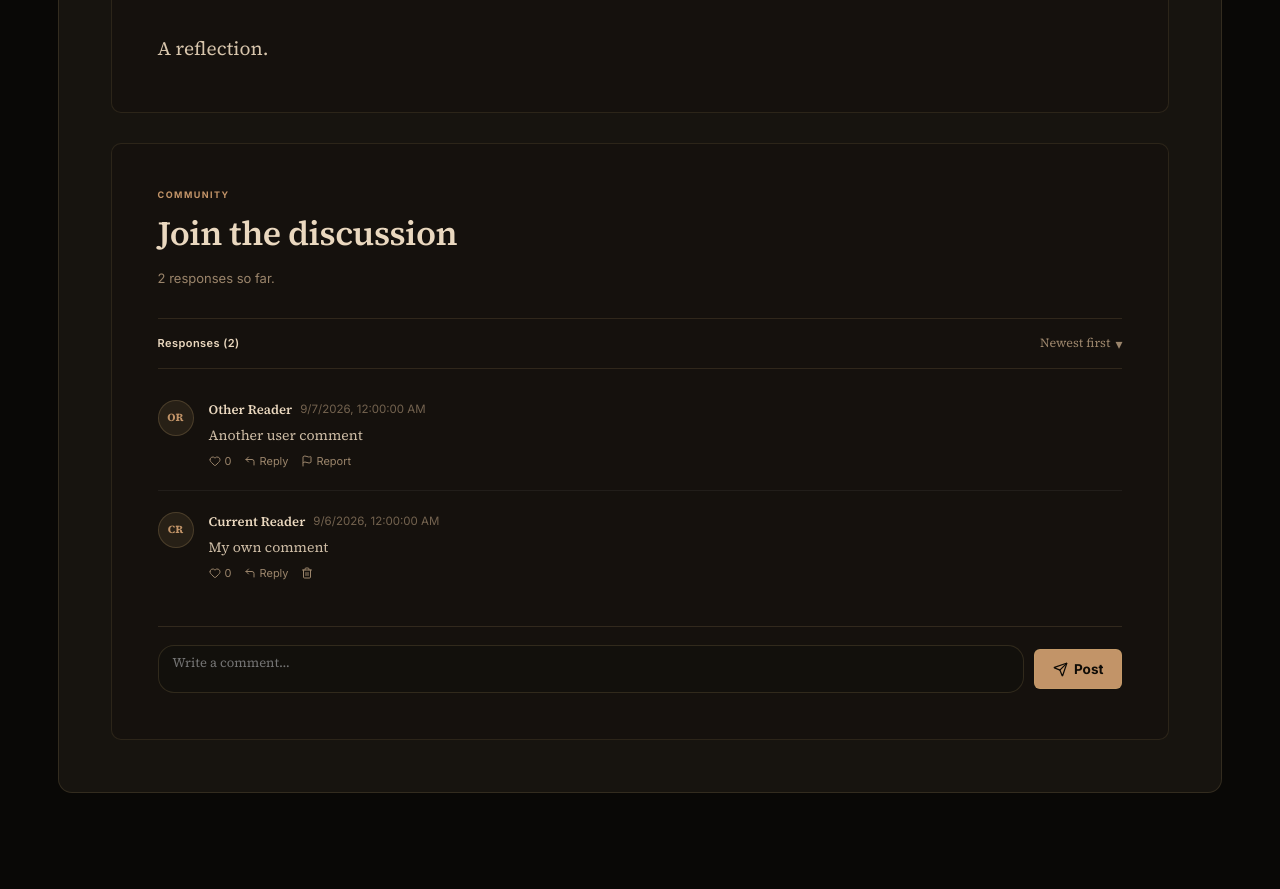
CardOverlayModal comment permissions › shows delete only for the current user and hides another comment after reporting it
This screenshot has width=1280, height=889.
(page scrolled)
Check: the text "My own comment" is shown, box [209, 537, 328, 557]
Check: the text "Another user comment" is shown, box [209, 425, 363, 445]
Click the button with aria-label "Report comment". click: (326, 461)
box: [300, 453, 351, 469]
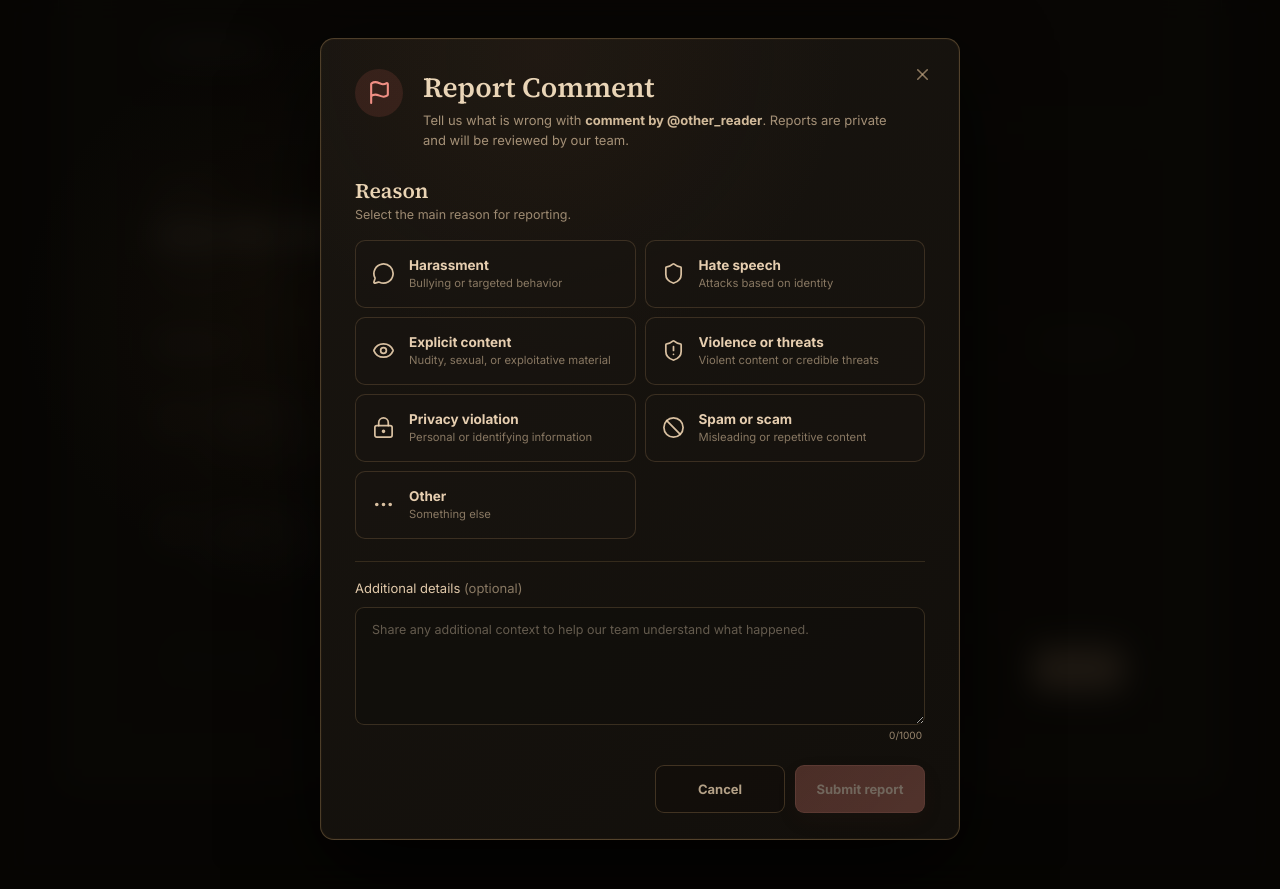
Click the radio button with aria-label "Harassment or bullying". click: (495, 274)
box: [355, 240, 636, 308]
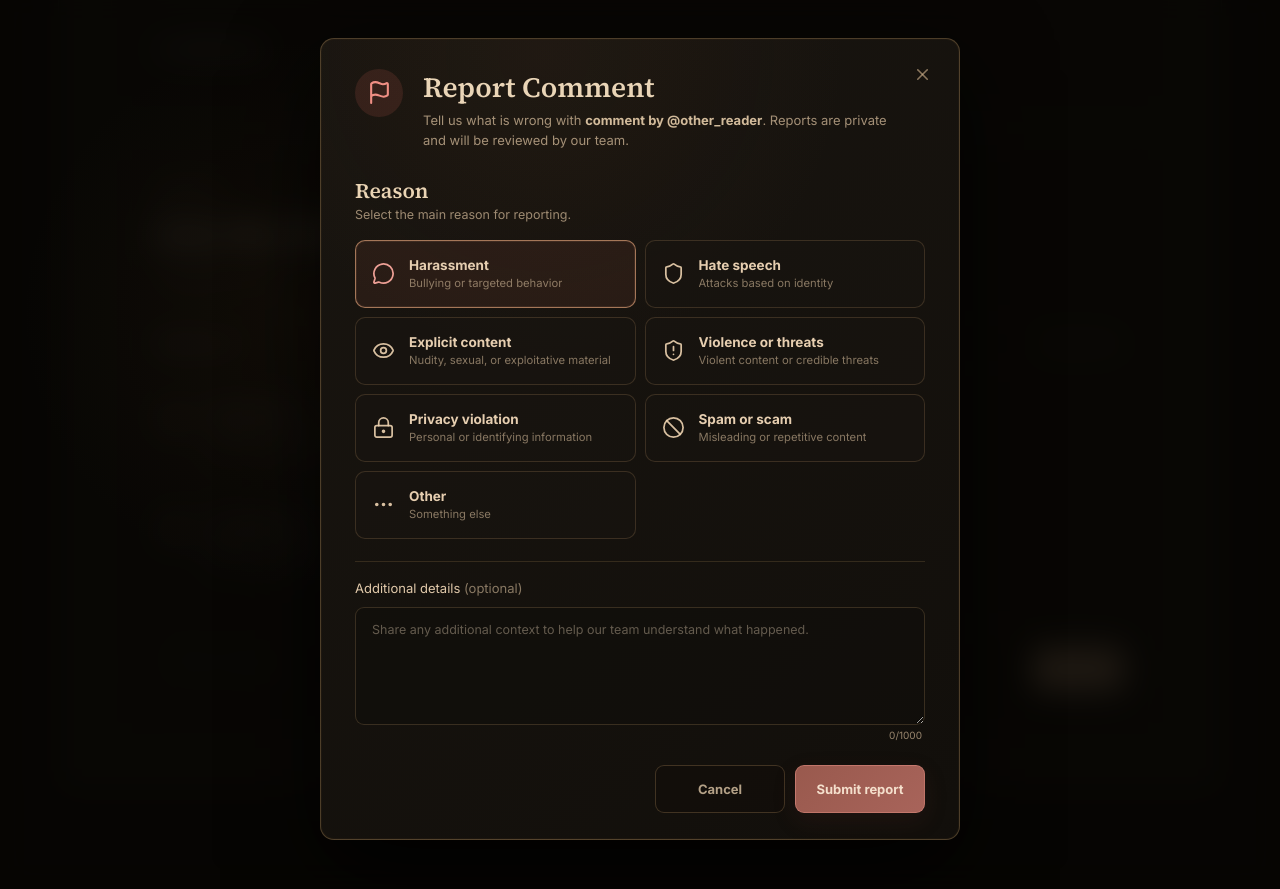
Click the button "Submit report". click: (860, 789)
box: [795, 765, 925, 813]
(page scrolled)
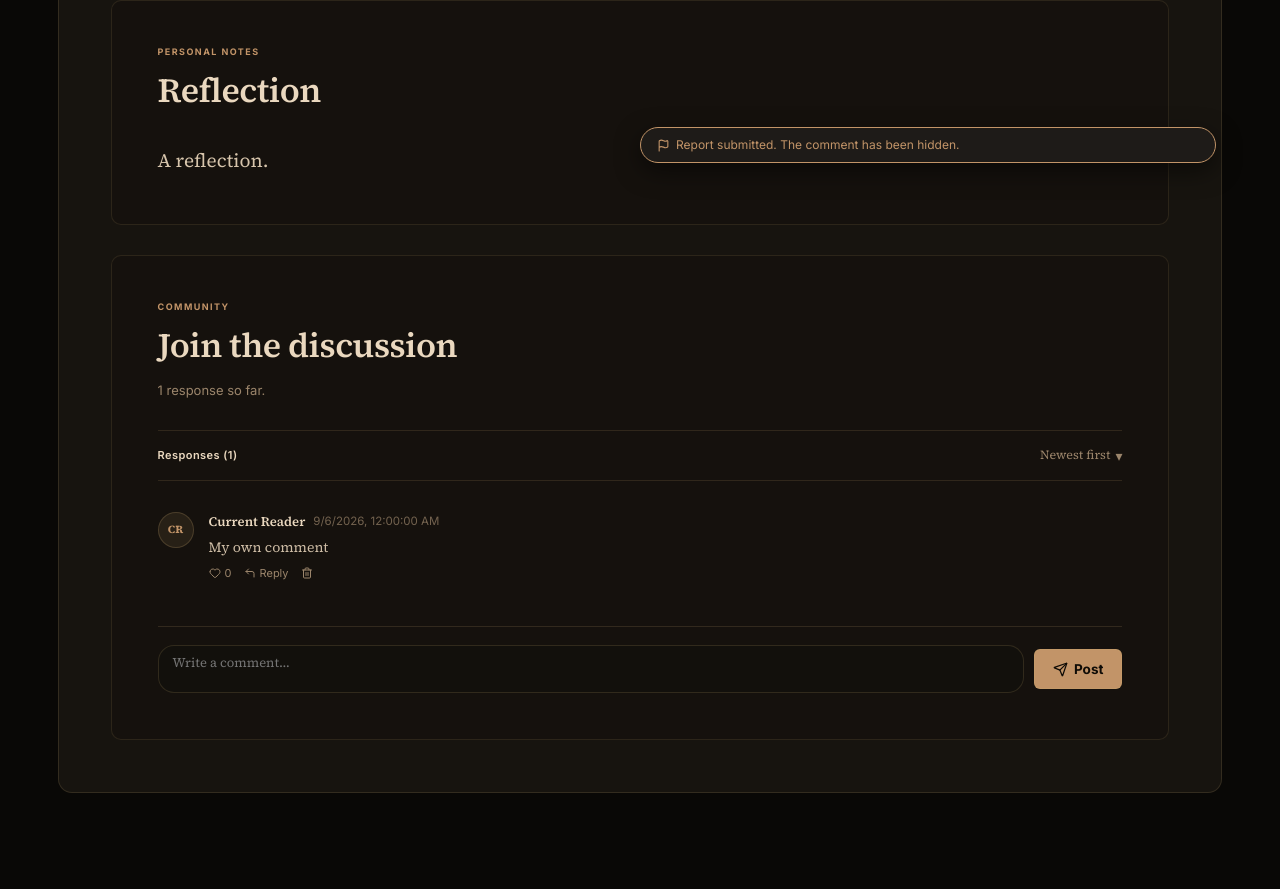
Check: the text "My own comment" is shown, box [209, 537, 328, 557]
Check: the text "Another user comment" is gone
